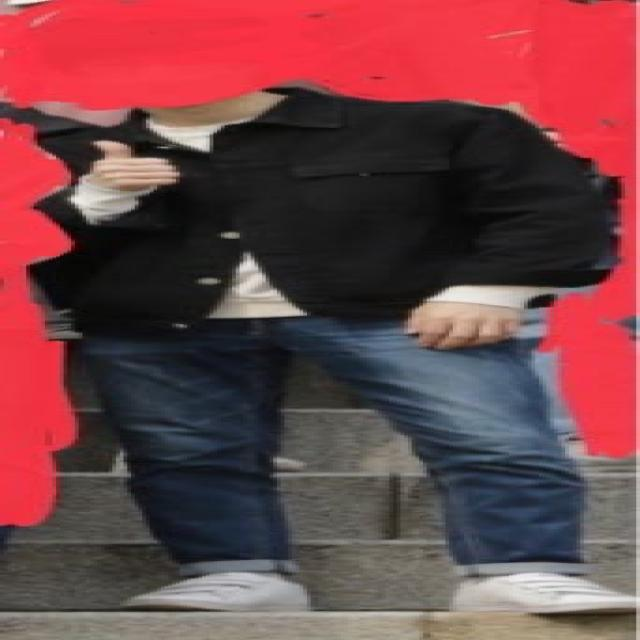denimpants: (78, 303, 592, 575)
jacket: (9, 92, 602, 328)
